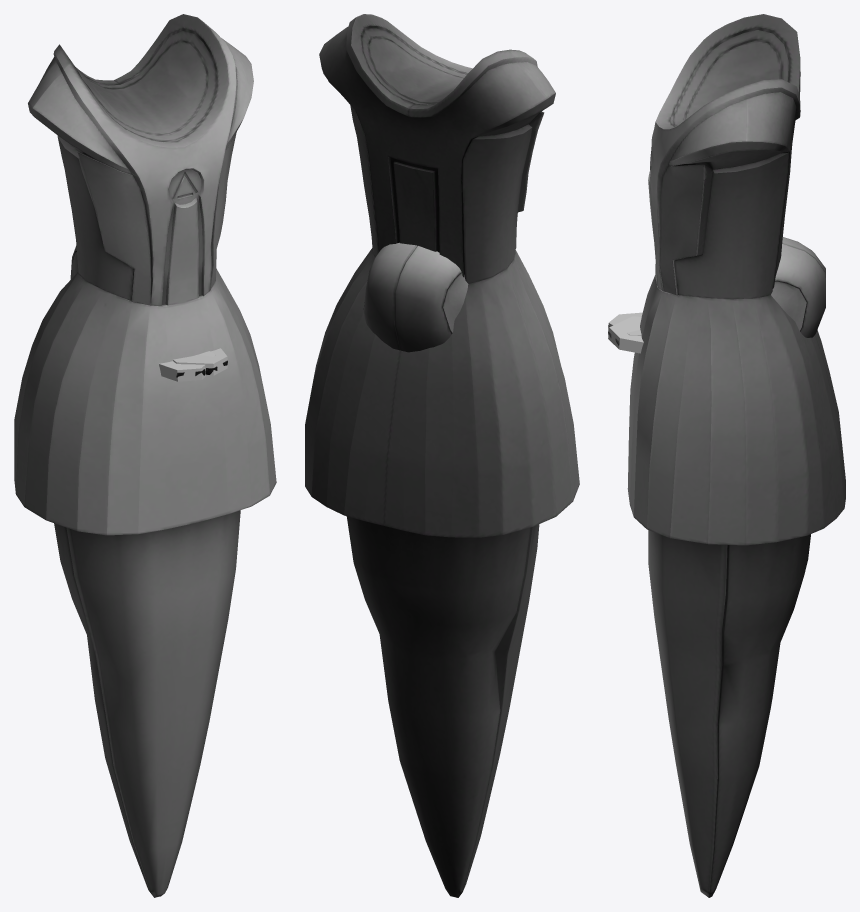
File: s-series-f01.obj
3 renders of one model, left to right at view 1: azimuth 30°, elevation 25°; view 2: azimuth 150°, elevation 25°; view 3: azimuth 270°, elevation 25°, orthographic. The views are drawn at different scales.
Parts seen in each view (by area): view 1: Body, BodyGlow, HandLeftCol, HandRightCol; view 2: Body, Head, BodyGlow, HeadGlow; view 3: Body, Head, BodyGlow, HeadGlow, HandRightCol.
Boxes of the visible parts, x1=… form: Body: x1=14, y1=14, x2=276, y2=897; BodyGlow: x1=71, y1=31, x2=215, y2=198; HandLeftCol: x1=159, y1=351, x2=215, y2=381; HandRightCol: x1=173, y1=348, x2=227, y2=375; Body: x1=305, y1=14, x2=579, y2=897; Head: x1=363, y1=242, x2=461, y2=352; BodyGlow: x1=362, y1=28, x2=466, y2=104; HeadGlow: x1=443, y1=273, x2=468, y2=332; Body: x1=627, y1=14, x2=845, y2=897; Head: x1=775, y1=237, x2=825, y2=337; BodyGlow: x1=672, y1=30, x2=788, y2=126; HeadGlow: x1=771, y1=281, x2=806, y2=330; HandRightCol: x1=608, y1=316, x2=643, y2=353.
Size of the model in its own units: 0.417 by 1.46 by 0.3715.
3 materials, 2 textured.
